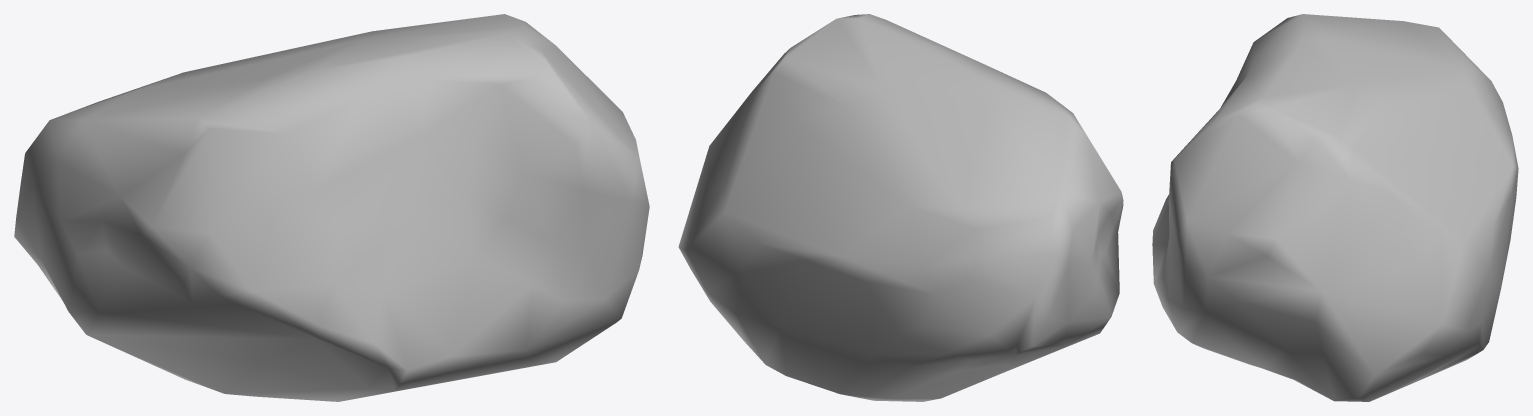
Rendered from Rock_3b.gltf.
3 renders of one model, left to right at view 1: azimuth 30°, elevation 25°; view 2: azimuth 150°, elevation 25°; view 3: azimuth 270°, elevation 25°, orthographic. The views are drawn at different scales.
Parts seen in each view (by area): view 1: Rock_3b; view 2: Rock_3b; view 3: Rock_3b.
Boxes of the visible parts, <box> form: Rock_3b: <box>14,14,649,401</box>; Rock_3b: <box>678,14,1123,401</box>; Rock_3b: <box>1152,14,1518,401</box>.
Bounding box in the file's own units: 41.76 × 27.05 × 31.07.
Materials: 1 (1 with a texture image).
